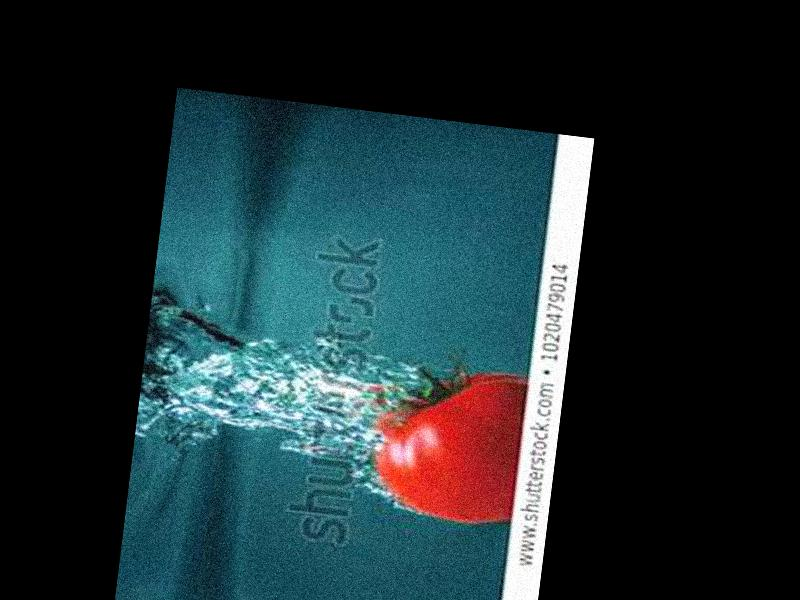Tomato: (367, 358, 529, 527)
